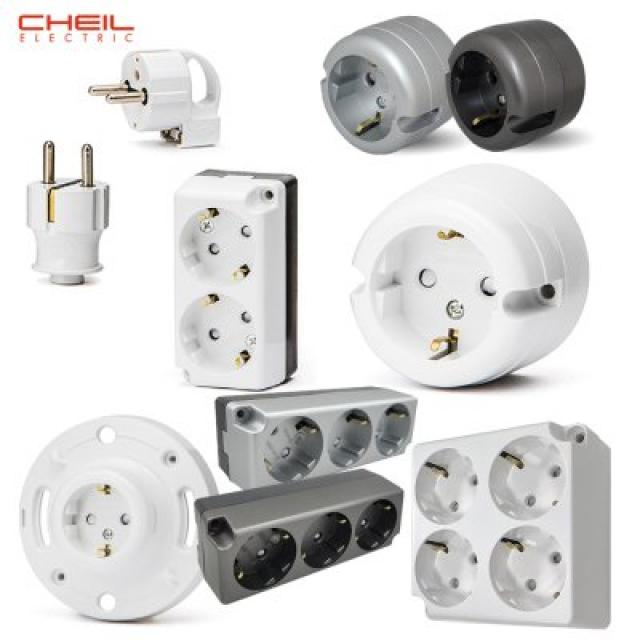typeb: (340, 163, 614, 389), (405, 437, 621, 640), (165, 145, 304, 394)
